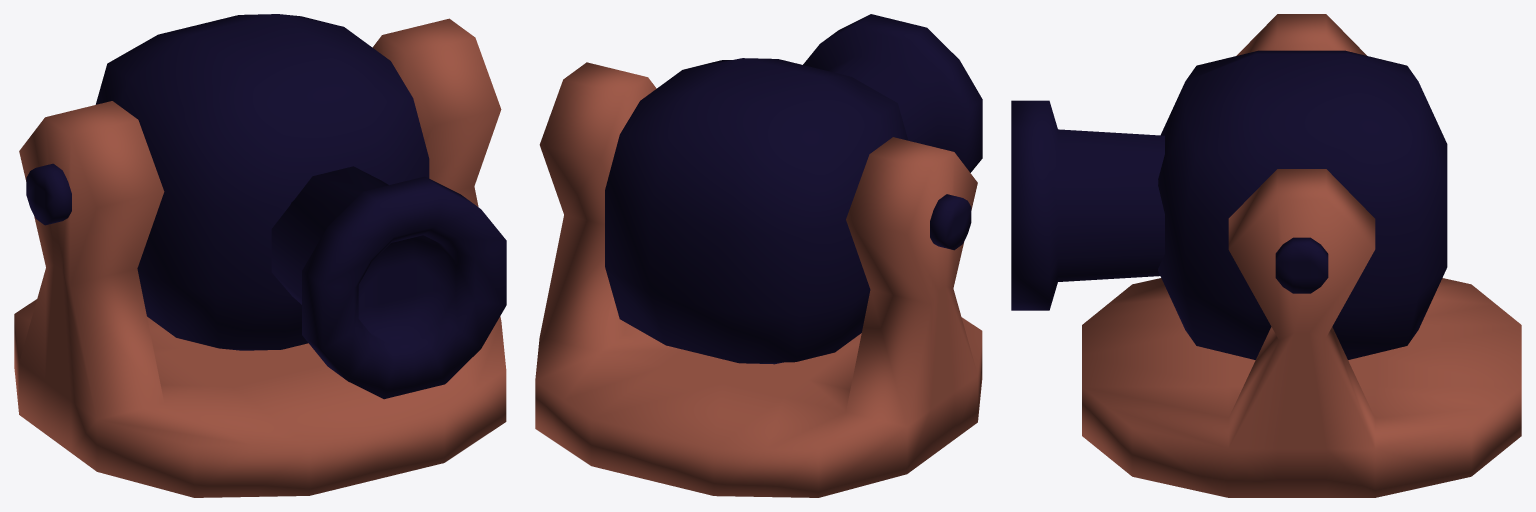
File: CannonEnemy.fbx
3 views of the same model, side by side, from view 1: azimuth 30°, elevation 25°; view 2: azimuth 150°, elevation 25°; view 3: azimuth 270°, elevation 25° (orthographic). The views are drawn at different scales.
Visible parts, largest first — view 1: Cube; view 2: Cube; view 3: Cube.
Part boxes in pixels (x1=…): Cube: x1=14, y1=14, x2=506, y2=497; Cube: x1=535, y1=14, x2=982, y2=497; Cube: x1=1011, y1=14, x2=1521, y2=497.
Size of the model in its own units: 218 by 166 by 232.
